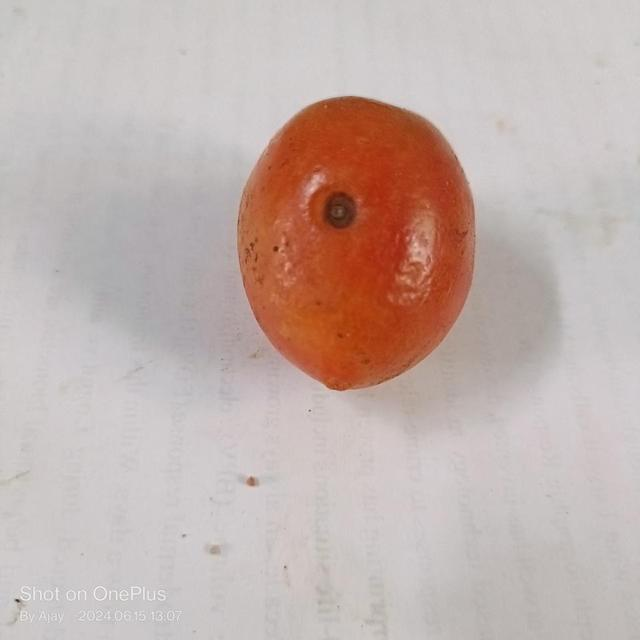Bacterial Spot Fruit: (215, 127, 239, 156)
